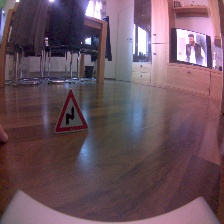vorsicht: (52, 88, 91, 134)
